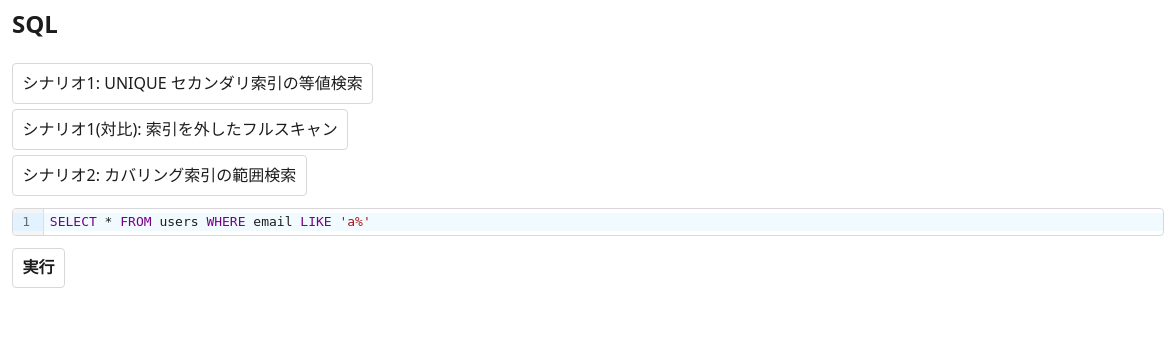
Test case: EditorPanel › サポート範囲外の SQL は「未対応」として画面に出る
Click the button with test id "run" at (39, 268), box [12,248,65,288]
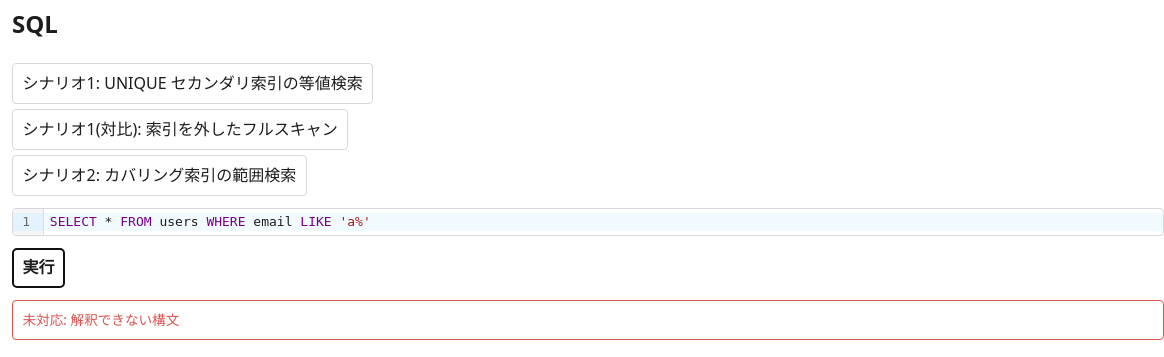
Result: the message with test id "error" shows "未対応" at [23,310,179,329]
